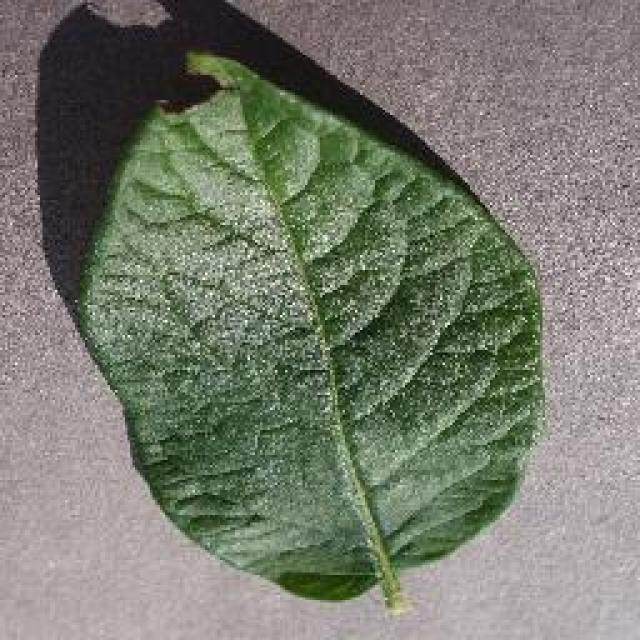Potato___healthy: (65, 46, 546, 622)
